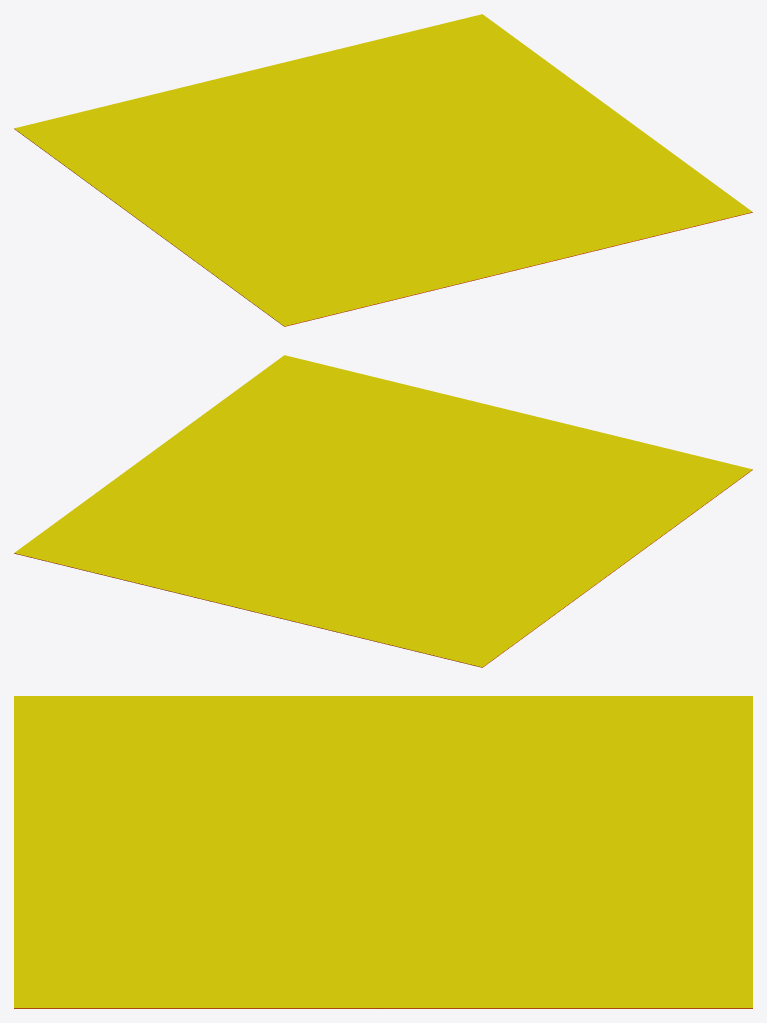
File: Samuraj.fbx
3 views of the same model, one above another, from view 1: azimuth 30°, elevation 25°; view 2: azimuth 150°, elevation 25°; view 3: azimuth 270°, elevation 25° (orthographic). The views are drawn at different scales.
Visible parts, largest first — view 1: Plane.024, Plane.009, Plane.020, Plane.008, Plane.021, Plane.018, Plane.023, Plane.019, Plane.010, Plane.011, Plane.017, Plane.012 (+12 smaller); view 2: Plane.008, Plane.021, Plane.024, Plane.009, Plane.020, Plane.010, Plane.023, Plane.011, Plane.019, Plane.018, Plane.012, Plane.007 (+12 smaller); view 3: Plane.010, Plane.018, Plane.023, Plane.008, Plane.009, Plane.020, Plane.021, Plane.011, Plane.019, Plane.024, Plane.022, Plane.012 (+12 smaller).
Boxes of the visible parts, x1=… form: Plane.024: x1=518, y1=191, x2=752, y2=269; Plane.009: x1=149, y1=149, x2=382, y2=227; Plane.020: x1=384, y1=113, x2=617, y2=190; Plane.008: x1=150, y1=170, x2=382, y2=248; Plane.021: x1=384, y1=92, x2=617, y2=169; Plane.018: x1=334, y1=170, x2=518, y2=269; Plane.023: x1=568, y1=113, x2=752, y2=211; Plane.019: x1=384, y1=170, x2=567, y2=268; Plane.010: x1=199, y1=71, x2=382, y2=169; Plane.011: x1=249, y1=71, x2=432, y2=169; Plane.017: x1=334, y1=248, x2=518, y2=310; Plane.012: x1=249, y1=30, x2=432, y2=91; Plane.008: x1=384, y1=490, x2=617, y2=568; Plane.021: x1=149, y1=454, x2=382, y2=531; Plane.024: x1=285, y1=355, x2=517, y2=432; Plane.009: x1=384, y1=511, x2=616, y2=589; Plane.020: x1=149, y1=433, x2=382, y2=510; Plane.010: x1=248, y1=511, x2=432, y2=610; Plane.023: x1=150, y1=355, x2=333, y2=453; Plane.011: x1=199, y1=511, x2=382, y2=609; Plane.019: x1=334, y1=412, x2=517, y2=510; Plane.018: x1=384, y1=412, x2=567, y2=510; Plane.012: x1=79, y1=532, x2=248, y2=610; Plane.007: x1=568, y1=490, x2=714, y2=568; Plane.010: x1=384, y1=774, x2=752, y2=852; Plane.018: x1=14, y1=774, x2=382, y2=852; Plane.023: x1=14, y1=930, x2=383, y2=1008; Plane.008: x1=199, y1=696, x2=383, y2=851; Plane.009: x1=383, y1=696, x2=567, y2=851; Plane.020: x1=199, y1=852, x2=383, y2=1008; Plane.021: x1=383, y1=852, x2=567, y2=1007; Plane.011: x1=384, y1=852, x2=751, y2=929; Plane.019: x1=15, y1=852, x2=382, y2=929; Plane.024: x1=14, y1=852, x2=198, y2=1007; Plane.022: x1=383, y1=930, x2=647, y2=1008; Plane.012: x1=568, y1=852, x2=752, y2=964.
Bounding box in the file's own units: 200 × 0.1831 × 200.
